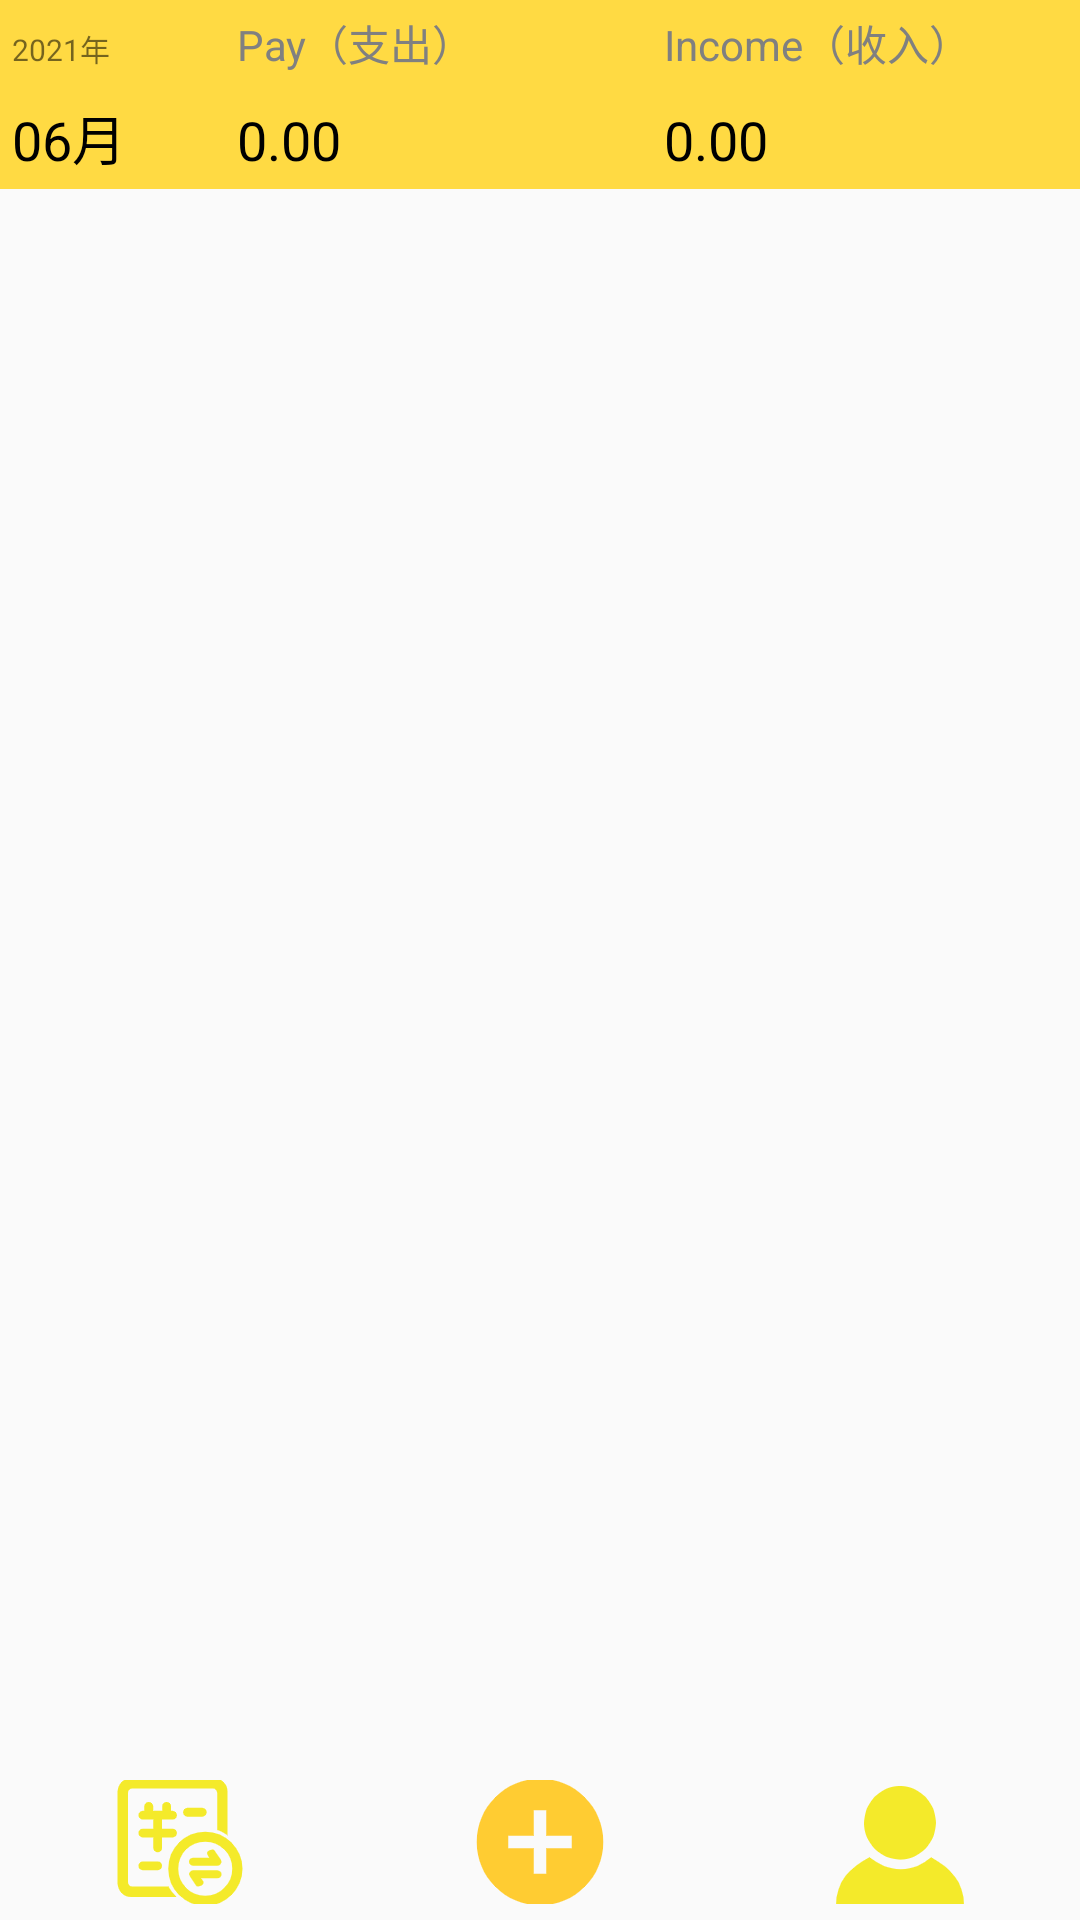

Icon click points for this 1080px×1920px phone screenshot, format [x,y]:
add: [540,1842]
